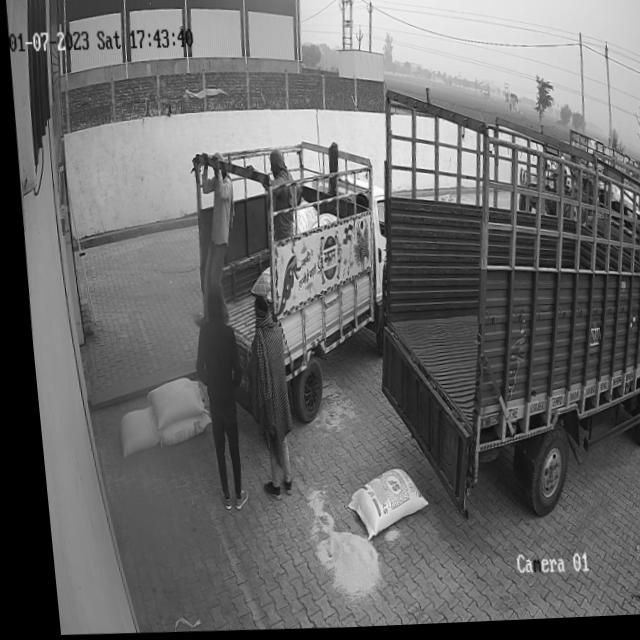sack: (335, 469, 420, 544), (137, 378, 197, 432), (108, 405, 151, 458), (149, 414, 205, 445)
